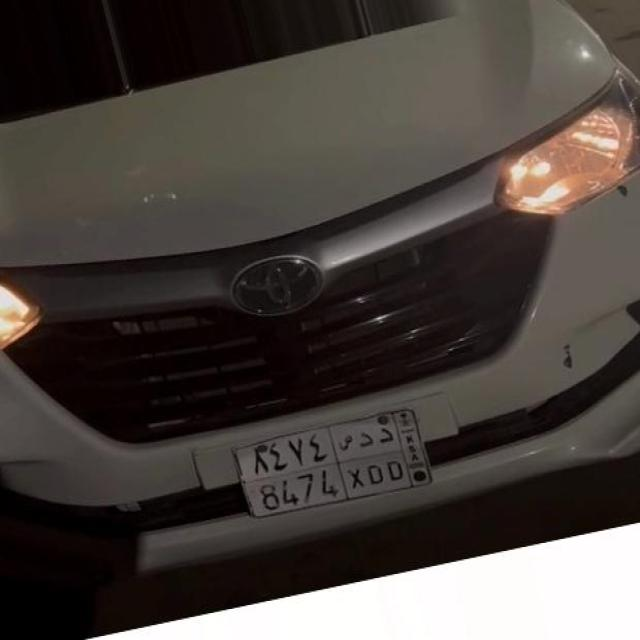Car-plate: (212, 387, 450, 537)
